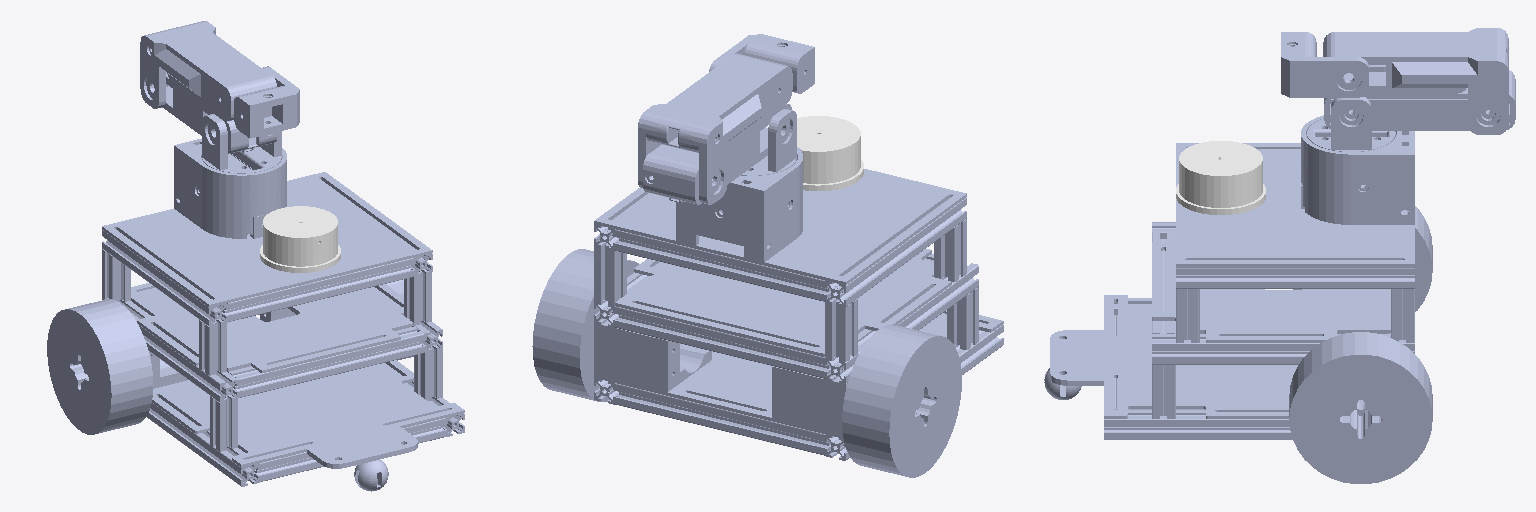
The robot description file, URDF, robot "aip1":
<?xml version="1.0" encoding="utf-8"?>
<!-- aip1 차량 URDF
     원본: SolidWorks URDF Exporter (final_agv_project_assembly_0623)
     수정:
       - 로봇 이름 → aip1
       - 메시 경로 → package://aip_fleet_real/meshes/
       - 바퀴 조인트 pitch 0 으로 수정 (SolidWorks Y→Z 변환 오차 제거)
       - ball_caster: fixed → 스위블(Z축)+롤(Y축) 2-DOF continuous
       - arm_joint 1~4: effort=1.5 N·m, velocity=5.0 rad/s (STS3215 사양)
       - lidar_link: mass=0.152 kg, 원통 근사 관성 추가
-->
<robot name="aip1">

  <!-- ══════════════════════════════════════════════
       BASE FOOTPRINT (지면 기준점 — ROS 표준)
       wheel_radius(60mm) - wheel_joint_z(10.662mm) = 49.338mm 위에 base_link
  ══════════════════════════════════════════════ -->
  <link name="base_footprint" />

  <joint name="base_footprint_joint" type="fixed">
    <origin xyz="0 0 0.049338" rpy="0 0 0" />
    <parent link="base_footprint" />
    <child link="base_link" />
  </joint>

  <!-- ══════════════════════════════════════════════
       BASE
  ══════════════════════════════════════════════ -->
  <link name="base_link">
    <inertial>
      <origin xyz="0.11471 -0.24707 0.04207" rpy="0 0 0" />
      <mass value="1.4328" />
      <inertia ixx="0.0043386" ixy="5.9699E-18" ixz="1.7556E-17"
               iyy="0.0036089" iyz="-1.2914E-05" izz="0.0077816" />
    </inertial>
    <visual>
      <origin xyz="0 0 0" rpy="0 0 0" />
      <geometry>
        <mesh filename="package://aip_fleet_real/meshes/base_link.STL" />
      </geometry>
      <material name=""><color rgba="0.79216 0.81961 0.93333 1" /></material>
    </visual>
    <collision>
      <origin xyz="0 0 0" rpy="0 0 0" />
      <geometry>
        <mesh filename="package://aip_fleet_real/meshes/base_link.STL" />
      </geometry>
    </collision>
  </link>

  <!-- ══════════════════════════════════════════════
       바퀴  (pitch 0 으로 수정)
  ══════════════════════════════════════════════ -->
  <link name="left_wheel_link">
    <inertial>
      <origin xyz="0 0 0.0225" rpy="0 0 0" />
      <mass value="0.48669" />
      <inertia ixx="0.00053904" ixy="0" ixz="0"
               iyy="0.00053904" iyz="0" izz="0.00091381" />
    </inertial>
    <visual>
      <origin xyz="0 0 0" rpy="0 0 0" />
      <geometry>
        <mesh filename="package://aip_fleet_real/meshes/left_wheel_link.STL" />
      </geometry>
      <material name=""><color rgba="0.79216 0.81961 0.93333 1" /></material>
    </visual>
    <collision>
      <origin xyz="0 0 0" rpy="0 0 0" />
      <geometry>
        <mesh filename="package://aip_fleet_real/meshes/left_wheel_link.STL" />
      </geometry>
    </collision>
  </link>

  <joint name="left_wheel_joint" type="continuous">
    <!-- pitch 0.60835 → 0 수정 (SolidWorks Y→Z 변환 오차 제거)
         axis: 0 1 0 → 0 0 1 (pitch=0 이후 local Z = parent X = 롤링 축) -->
    <origin xyz="0.23971 -0.18877 0.010662" rpy="-1.5708 0 -1.5708" />
    <parent link="base_link" />
    <child link="left_wheel_link" />
    <axis xyz="0 0 1" />
  </joint>

  <link name="right_wheel_link">
    <inertial>
      <origin xyz="0 0 0.0225" rpy="0 0 0" />
      <mass value="0.48669" />
      <inertia ixx="0.00053904" ixy="0" ixz="0"
               iyy="0.00053904" iyz="0" izz="0.00091381" />
    </inertial>
    <visual>
      <origin xyz="0 0 0" rpy="0 0 0" />
      <geometry>
        <mesh filename="package://aip_fleet_real/meshes/right_wheel_link.STL" />
      </geometry>
      <material name=""><color rgba="0.79216 0.81961 0.93333 1" /></material>
    </visual>
    <collision>
      <origin xyz="0 0 0" rpy="0 0 0" />
      <geometry>
        <mesh filename="package://aip_fleet_real/meshes/right_wheel_link.STL" />
      </geometry>
    </collision>
  </link>

  <joint name="right_wheel_joint" type="continuous">
    <!-- pitch -1.0729 → 0 수정 (SolidWorks Y→Z 변환 오차 제거)
         axis: 0 1 0 → 0 0 1 (pitch=0 이후 local Z = parent X = 롤링 축) -->
    <origin xyz="-0.055287 -0.18877 0.010662" rpy="1.5708 0 1.5708" />
    <parent link="base_link" />
    <child link="right_wheel_link" />
    <axis xyz="0 0 1" />
  </joint>

  <!-- ══════════════════════════════════════════════
       볼 캐스터  (fixed → 2-DOF continuous)
       스위블(Z축 yaw) → 롤(Y축 spin) 2단 체인
  ══════════════════════════════════════════════ -->
  <link name="ball_caster_swivel_link">
    <inertial>
      <origin xyz="0 0 0" rpy="0 0 0" />
      <mass value="0.001" />
      <inertia ixx="1E-07" ixy="0" ixz="0"
               iyy="1E-07" iyz="0" izz="1E-07" />
    </inertial>
  </link>

  <!-- 스위블: base_link → swivel_link (Z축 회전) -->
  <joint name="ball_caster_joint" type="continuous">
    <origin xyz="0.11471 -0.43777 -0.033338" rpy="1.5708 0 0" />
    <parent link="base_link" />
    <child link="ball_caster_swivel_link" />
    <axis xyz="0 0 1" />
  </joint>

  <link name="ball_caster_link">
    <inertial>
      <origin xyz="0 0 0" rpy="0 0 0" />
      <mass value="0.012935" />
      <inertia ixx="1.4959E-06" ixy="0" ixz="0"
               iyy="1.3876E-06" iyz="0" izz="1.4959E-06" />
    </inertial>
    <visual>
      <origin xyz="0 0 0" rpy="0 0 0" />
      <geometry>
        <mesh filename="package://aip_fleet_real/meshes/ball_caster_link.STL" />
      </geometry>
      <material name=""><color rgba="0.79216 0.81961 0.93333 1" /></material>
    </visual>
    <collision>
      <origin xyz="0 0 0" rpy="0 0 0" />
      <geometry>
        <!-- 볼 반경 17 mm -->
        <sphere radius="0.017" />
      </geometry>
    </collision>
  </link>

  <!-- 롤: swivel_link → ball_caster_link (Y축 회전) -->
  <joint name="ball_caster_roll_joint" type="continuous">
    <origin xyz="0 0 0" rpy="0 0 0" />
    <parent link="ball_caster_swivel_link" />
    <child link="ball_caster_link" />
    <axis xyz="0 1 0" />
  </joint>

  <!-- ══════════════════════════════════════════════
       서보 암  (STS3215: effort=1.5 N·m, velocity=5.0 rad/s)
  ══════════════════════════════════════════════ -->
  <link name="arm_base_link">
    <inertial>
      <origin xyz="-0.012654 -0.027174 0" rpy="0 0 0" />
      <mass value="0.10602" />
      <inertia ixx="0.0001423" ixy="8.5082E-06" ixz="0"
               iyy="0.00021604" iyz="0" izz="0.00015474" />
    </inertial>
    <visual>
      <origin xyz="0 0 0" rpy="0 0 0" />
      <geometry>
        <mesh filename="package://aip_fleet_real/meshes/arm_base_link.STL" />
      </geometry>
      <material name=""><color rgba="0.79216 0.81961 0.93333 1" /></material>
    </visual>
    <collision>
      <origin xyz="0 0 0" rpy="0 0 0" />
      <geometry>
        <mesh filename="package://aip_fleet_real/meshes/arm_base_link.STL" />
      </geometry>
    </collision>
  </link>

  <joint name="arm_base_joint" type="fixed">
    <origin xyz="0.11471 -0.19677 0.19566" rpy="1.5708 0 -1.5708" />
    <parent link="base_link" />
    <child link="arm_base_link" />
  </joint>

  <link name="arm_link_1">
    <inertial>
      <origin xyz="-0.000152 0.000717 0" rpy="0 0 0" />
      <mass value="0.070309" />
      <inertia ixx="2.9158E-05" ixy="4.9543E-08" ixz="0"
               iyy="2.8672E-05" iyz="0" izz="2.3394E-05" />
    </inertial>
    <visual>
      <origin xyz="0 0 0" rpy="0 0 0" />
      <geometry>
        <mesh filename="package://aip_fleet_real/meshes/arm_link_1.STL" />
      </geometry>
      <material name=""><color rgba="0.79216 0.81961 0.93333 1" /></material>
    </visual>
    <collision>
      <origin xyz="0 0 0" rpy="0 0 0" />
      <geometry>
        <mesh filename="package://aip_fleet_real/meshes/arm_link_1.STL" />
      </geometry>
    </collision>
  </link>

  <joint name="arm_joint_1" type="revolute">
    <!-- axis: 0 0 1(Z/파랑) → 0 1 0(Y/초록) : 수직 yaw 회전이 초록축으로 정상 동작 -->
    <origin xyz="0 0 0" rpy="0 1.5708 0" />
    <parent link="arm_base_link" />
    <child link="arm_link_1" />
    <axis xyz="0 1 0" />
    <limit lower="-1.5708" upper="1.5708" effort="1.5" velocity="5.0" />
  </joint>

  <link name="arm_link_2">
    <inertial>
      <origin xyz="0.000754 0.026101 0.000371" rpy="0 0 0" />
      <mass value="0.123000" />
      <inertia ixx="4.4084E-05" ixy="-2.3462E-07" ixz="4.0096E-08"
               iyy="2.9211E-04" iyz="-1.1536E-07" izz="2.9762E-04" />
    </inertial>
    <visual>
      <origin xyz="0 0 0" rpy="0 0 0" />
      <geometry>
        <mesh filename="package://aip_fleet_real/meshes/arm_link_2.STL" />
      </geometry>
      <material name=""><color rgba="0.79216 0.81961 0.93333 1" /></material>
    </visual>
    <collision>
      <origin xyz="0 0 0" rpy="0 0 0" />
      <geometry>
        <mesh filename="package://aip_fleet_real/meshes/arm_link_2.STL" />
      </geometry>
    </collision>
  </link>

  <joint name="arm_joint_2" type="revolute">
    <origin xyz="-0.025 0.031 -0.05727" rpy="1.5708 1.5708 0" />
    <parent link="arm_link_1" />
    <child link="arm_link_2" />
    <axis xyz="0 1 0" />
    <limit lower="-1.5708" upper="1.5708" effort="1.5" velocity="5.0" />
  </joint>

  <link name="arm_link_3">
    <inertial>
      <origin xyz="0.030352 0.001768 0.025698" rpy="0 0 0" />
      <mass value="0.183964" />
      <inertia ixx="7.9831E-05" ixy="-1.5612E-05" ixz="9.6635E-06"
               iyy="4.2776E-04" iyz="5.6728E-06" izz="4.1953E-04" />
    </inertial>
    <visual>
      <origin xyz="0 0 0" rpy="0 0 0" />
      <geometry>
        <mesh filename="package://aip_fleet_real/meshes/arm_link_3.STL" />
      </geometry>
      <material name=""><color rgba="0.79216 0.81961 0.93333 1" /></material>
    </visual>
    <collision>
      <origin xyz="0 0 0" rpy="0 0 0" />
      <geometry>
        <mesh filename="package://aip_fleet_real/meshes/arm_link_3.STL" />
      </geometry>
    </collision>
  </link>

  <joint name="arm_joint_3" type="revolute">
    <origin xyz="-0.02023 0.05 -0.034" rpy="1.5708 0 0" />
    <parent link="arm_link_2" />
    <child link="arm_link_3" />
    <axis xyz="0 -1 0" />
    <limit lower="-1.5708" upper="1.5708" effort="1.5" velocity="5.0" />
  </joint>

  <link name="arm_link_4">
    <inertial>
      <origin xyz="0 -0.015138 -0.034062" rpy="0 0 0" />
      <mass value="0.057290" />
      <inertia ixx="3.5723E-05" ixy="0" ixz="0"
               iyy="2.6107E-05" iyz="7.4854E-06" izz="2.1190E-05" />
    </inertial>
    <visual>
      <origin xyz="0 0 0" rpy="0 0 0" />
      <geometry>
        <mesh filename="package://aip_fleet_real/meshes/arm_link_4.STL" />
      </geometry>
      <material name=""><color rgba="0.79216 0.81961 0.93333 1" /></material>
    </visual>
    <collision>
      <origin xyz="0 0 0" rpy="0 0 0" />
      <geometry>
        <mesh filename="package://aip_fleet_real/meshes/arm_link_4.STL" />
      </geometry>
    </collision>
  </link>

  <joint name="arm_joint_4" type="revolute">
    <!-- axis: 0 -1 0(-Y/초록) → 0 0 1(Z/파랑) : 손목 회전이 파란축으로 정상 동작 -->
    <origin xyz="-0.0592 0 0.0505" rpy="0 0 -1.5708" />
    <parent link="arm_link_3" />
    <child link="arm_link_4" />
    <axis xyz="0 0 1" />
    <limit lower="-1.5708" upper="1.5708" effort="1.5" velocity="5.0" />
  </joint>

  <!-- ══════════════════════════════════════════════
       LiDAR  (YDLidar TG15: 152 g, 원통 r=35mm h=40mm 근사)
       ixx=iyy = m(3r²+h²)/12, izz = mr²/2
  ══════════════════════════════════════════════ -->
  <link name="lidar_link">
    <inertial>
      <origin xyz="0 0 0" rpy="0 0 0" />
      <mass value="0.152" />
      <inertia ixx="6.68E-05" ixy="0" ixz="0"
               iyy="6.68E-05" iyz="0" izz="9.31E-05" />
    </inertial>
    <visual>
      <origin xyz="0 0 0" rpy="0 0 0" />
      <geometry>
        <mesh filename="package://aip_fleet_real/meshes/lidar_link.STL" />
      </geometry>
      <material name=""><color rgba="1 1 1 1" /></material>
    </visual>
    <collision>
      <origin xyz="0 0 0" rpy="0 0 0" />
      <geometry>
        <cylinder radius="0.035" length="0.040" />
      </geometry>
    </collision>
  </link>

  <joint name="lidar_joint" type="fixed">
    <origin xyz="0.11471 -0.30587 0.13766" rpy="1.5708 0 0" />
    <parent link="base_link" />
    <child link="lidar_link" />
  </joint>

</robot>

--- Facts derived from the render (not from the file) ---
The picture shows the robot from 3 angles, left to right: view 1: azimuth 30°, elevation 25°; view 2: azimuth 150°, elevation 25°; view 3: azimuth 270°, elevation 25°; orthographic projection.
Robot: aip1 — 12 links, 11 joints (4 revolute, 4 continuous, 3 fixed); root link base_footprint; default pose: all joints at 0.
Visible links, largest first — view 1: base_link, right_wheel_link, arm_link_3, arm_base_link, lidar_link, arm_link_4, arm_link_1, arm_link_2, ball_caster_link; view 2: base_link, right_wheel_link, arm_link_3, arm_base_link, left_wheel_link, arm_link_2, lidar_link, arm_link_4, arm_link_1; view 3: base_link, left_wheel_link, arm_link_3, arm_base_link, lidar_link, arm_link_2, arm_link_4, arm_link_1, right_wheel_link.
Link boxes in pixels (box(x1,y1,x2,y2)): base_link: box(102, 172, 464, 486); right_wheel_link: box(47, 299, 152, 434); arm_link_3: box(140, 21, 276, 120); arm_base_link: box(174, 139, 286, 238); lidar_link: box(260, 206, 340, 272); arm_link_4: box(234, 66, 299, 138); arm_link_1: box(202, 114, 281, 173); arm_link_2: box(154, 72, 276, 153); ball_caster_link: box(354, 460, 388, 491); base_link: box(594, 169, 1003, 460); right_wheel_link: box(842, 324, 961, 477); arm_link_3: box(638, 53, 792, 204); arm_base_link: box(676, 147, 802, 261); left_wheel_link: box(532, 249, 638, 401); arm_link_2: box(643, 104, 791, 204); lidar_link: box(797, 116, 863, 190); arm_link_4: box(709, 34, 814, 93); arm_link_1: box(741, 109, 796, 175); base_link: box(1050, 143, 1414, 439); left_wheel_link: box(1289, 332, 1432, 483); arm_link_3: box(1323, 28, 1508, 134); arm_base_link: box(1301, 115, 1414, 224); lidar_link: box(1176, 141, 1265, 214); arm_link_2: box(1324, 70, 1515, 130); arm_link_4: box(1281, 32, 1368, 97); arm_link_1: box(1307, 97, 1395, 151); right_wheel_link: box(1293, 206, 1432, 311).
Size in the robot's own frame: 0.34 by 0.3941 by 0.327 metres.
10 mesh visuals loaded from 10 distinct referenced files (10 binary STL).
